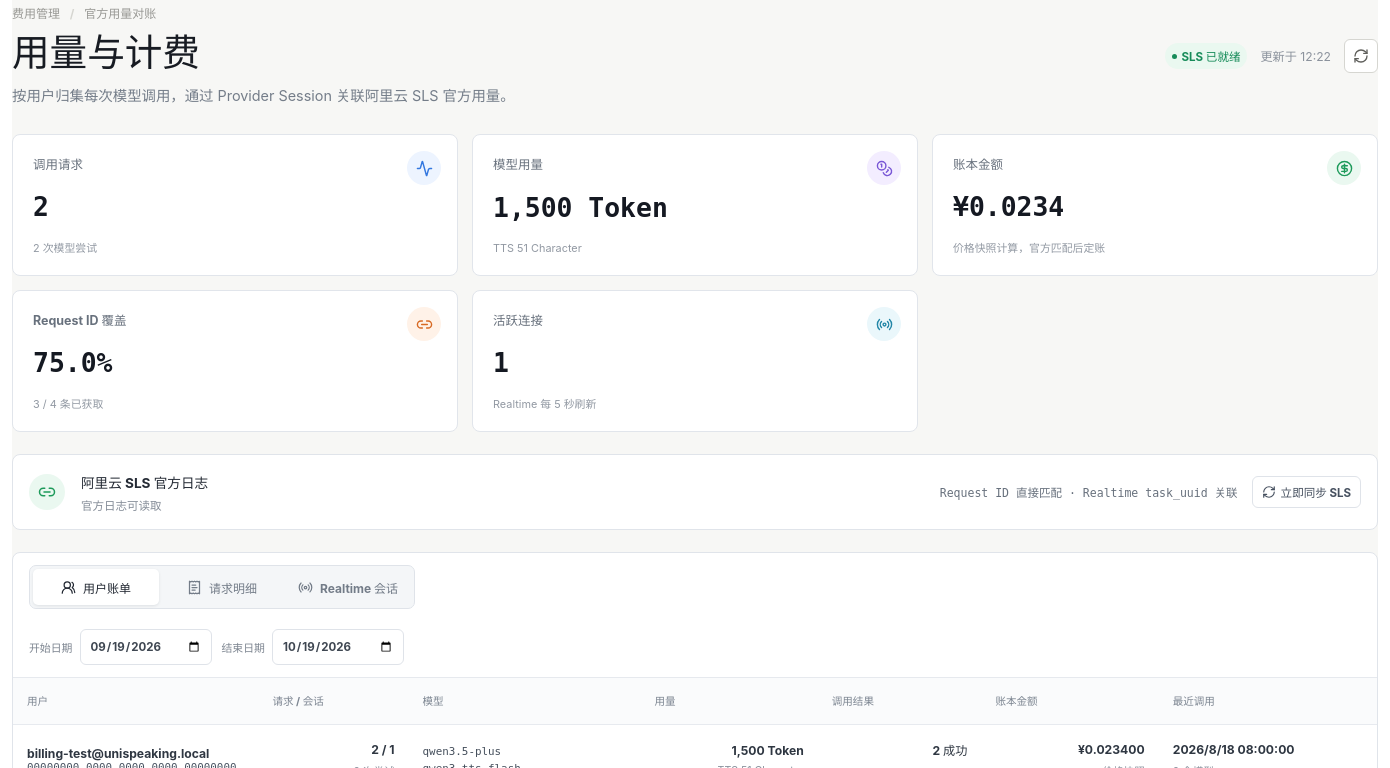
Test: BillingPage › aggregates users and exposes request-id matching without claiming an official bill
Check: the heading "用量与计费" is shown, box [12, 30, 200, 75]
Check: the text "billing-test@unispeaking.local" is shown, box [27, 746, 209, 761]
Click the button "请求明细": (222, 587) [159, 569, 285, 605]
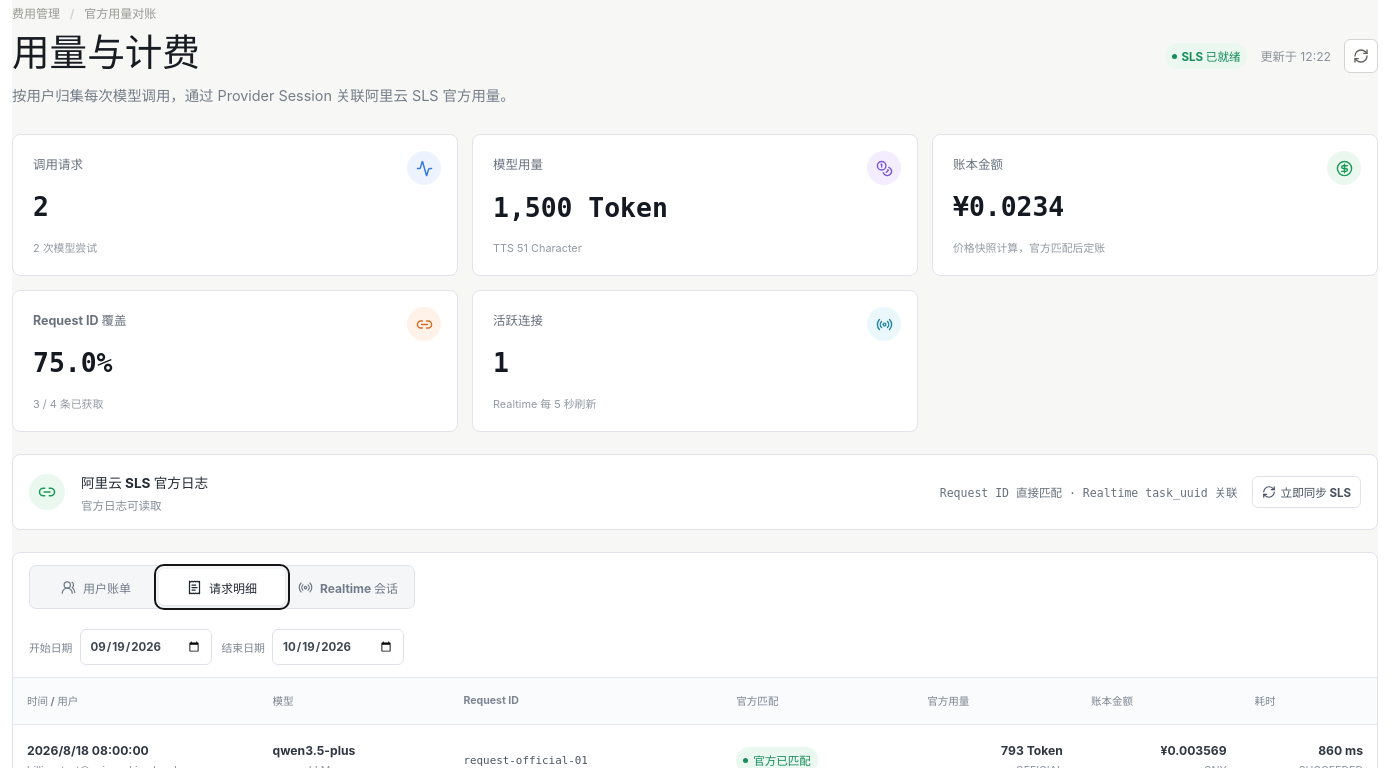
Check: the text "request-official-01" is shown, box [464, 754, 588, 766]
Check: the text "793 Token" is shown, box [1001, 743, 1063, 758]
Check: the text "¥0.003569" is shown, box [1160, 743, 1227, 758]
Click the button "Realtime 会话": (348, 587) [285, 569, 411, 605]
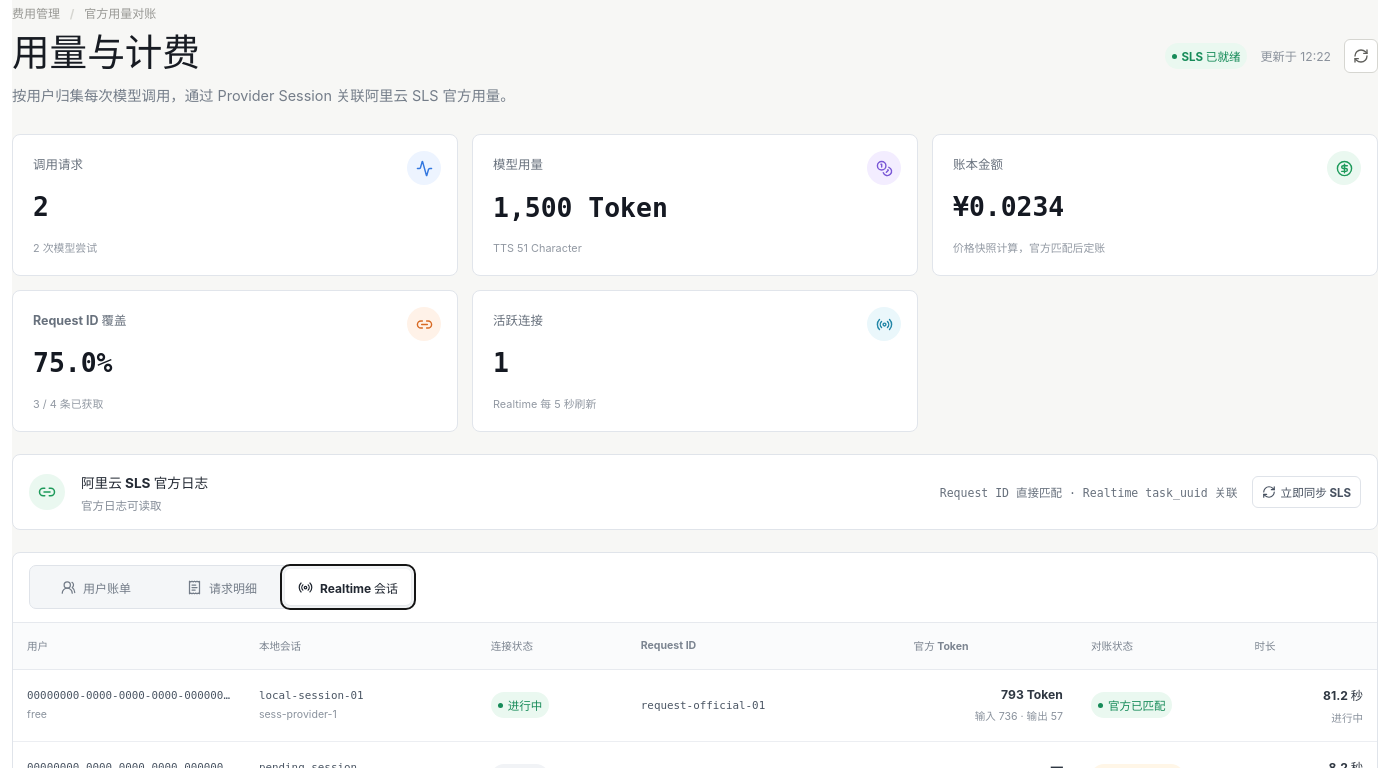
Check: the text "local-session-01" is shown, box [259, 689, 364, 702]
Check: the text "进行中" is shown, box [491, 692, 549, 718]
Check: the date field labelled "计费开始日期" is gone
